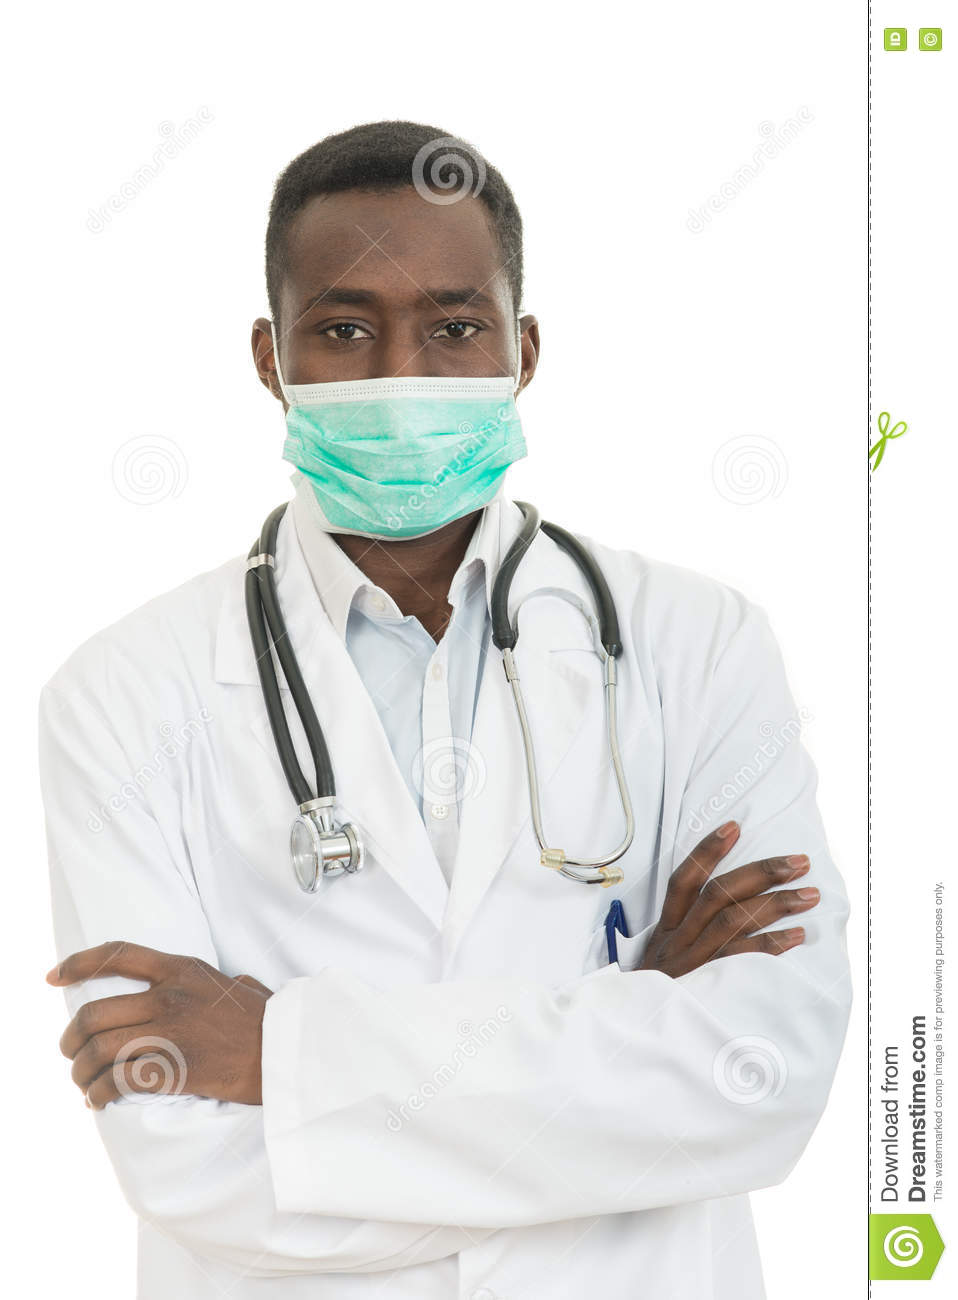mask: (285, 383, 537, 551)
